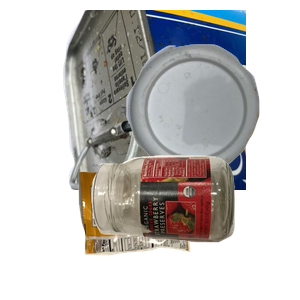glass: (89, 153, 300, 300)
metal: (60, 10, 300, 190)
plastic: (124, 42, 300, 210)
trash: (76, 159, 259, 300)
